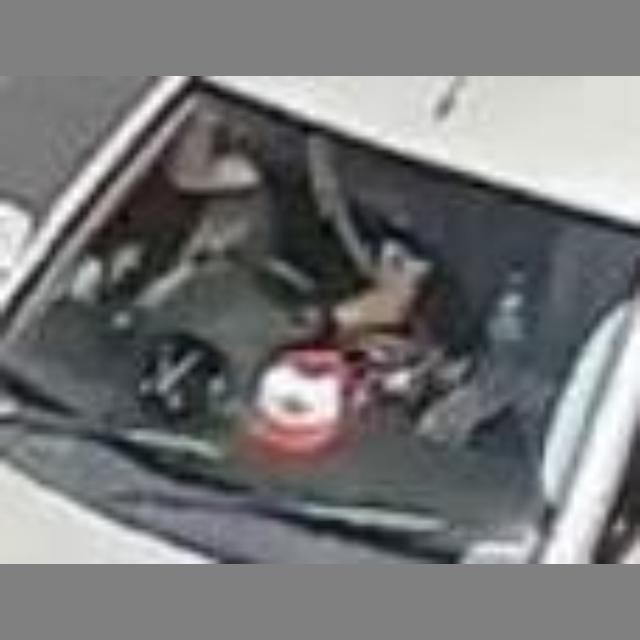pakai: (219, 127, 432, 357)
